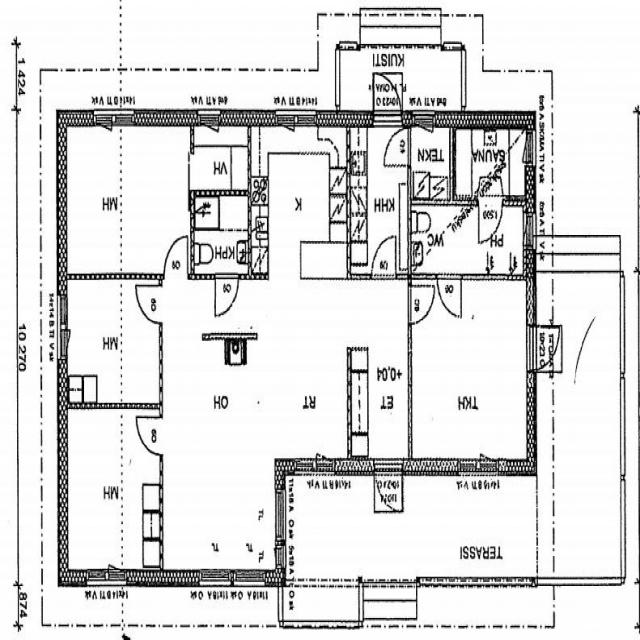door: (375, 458, 402, 518), (374, 66, 401, 126), (526, 327, 563, 369), (371, 236, 396, 280), (437, 274, 461, 319), (408, 286, 436, 324), (479, 196, 502, 242), (164, 237, 188, 279), (136, 286, 162, 324), (136, 417, 162, 455), (215, 274, 238, 316), (385, 128, 411, 165)
